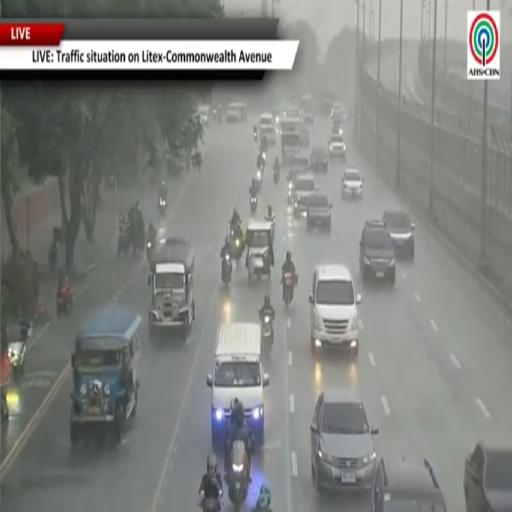car: (310, 389, 378, 493), (309, 265, 362, 356), (373, 457, 446, 511), (464, 442, 511, 511), (360, 220, 395, 285), (383, 211, 414, 259), (307, 194, 332, 231), (294, 174, 316, 216), (342, 169, 363, 199), (259, 112, 276, 147), (287, 168, 303, 203), (310, 146, 329, 172), (329, 134, 345, 162), (301, 94, 314, 125), (227, 103, 247, 122), (292, 149, 309, 171), (198, 104, 210, 127), (300, 121, 310, 148), (331, 102, 344, 119), (331, 120, 343, 134)
jeepney: (71, 306, 141, 446), (149, 237, 195, 340), (246, 220, 273, 281), (281, 118, 300, 164)
motorcycle: (228, 441, 249, 510), (8, 322, 32, 379), (230, 227, 244, 262), (198, 491, 222, 511), (262, 315, 273, 355), (283, 272, 295, 308), (57, 290, 73, 316), (0, 384, 9, 423), (222, 254, 232, 287), (117, 230, 130, 255), (265, 216, 275, 242), (147, 240, 154, 261), (159, 198, 167, 214), (256, 169, 262, 190), (250, 196, 257, 213), (274, 168, 279, 184), (254, 132, 257, 143)
